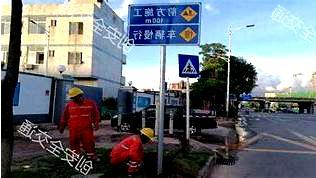sign: (127, 5, 199, 43)
